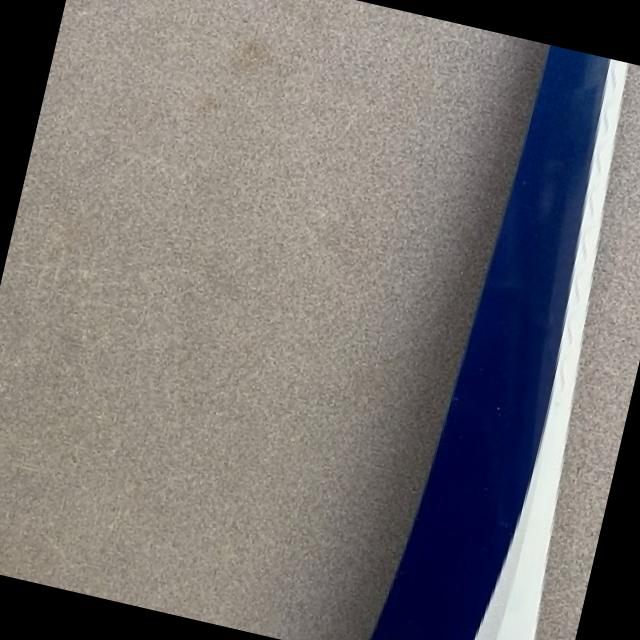healthy: (367, 44, 627, 640), (536, 63, 640, 640)
